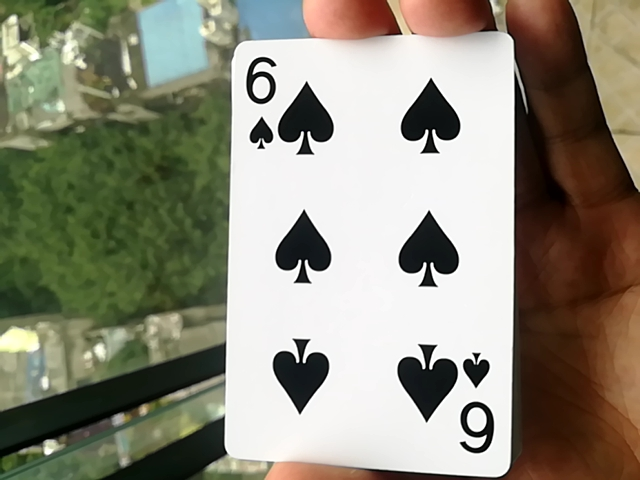ht 6: (207, 19, 521, 480)
